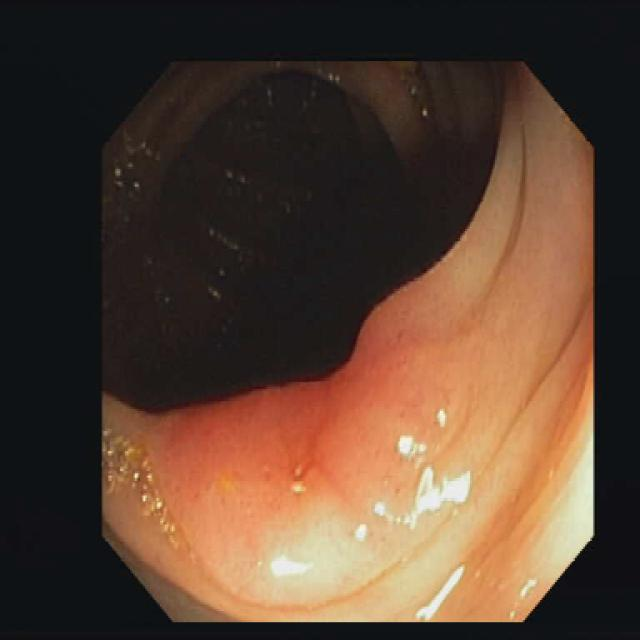tumor: (143, 365, 470, 569)
